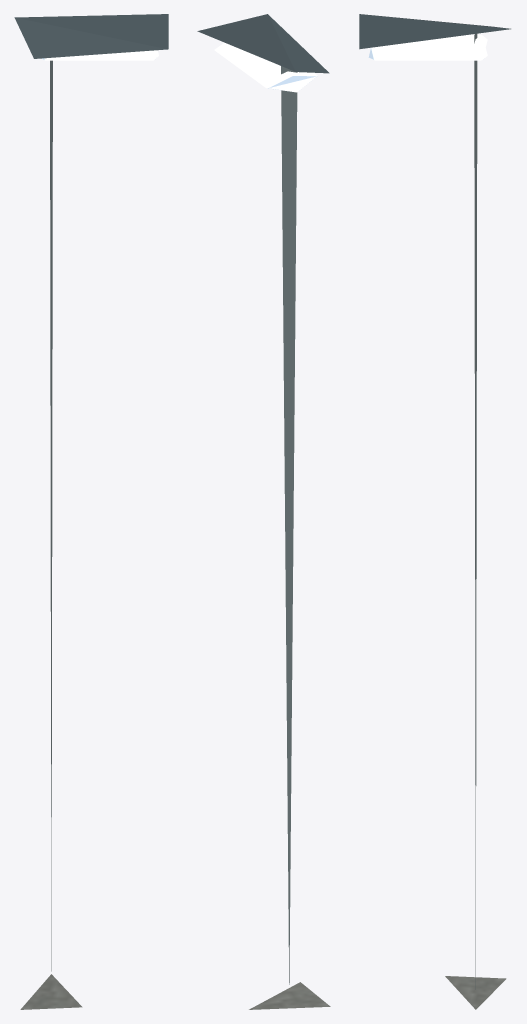
Rendered from ApronLight_8m_LOD2.glb.
The picture shows the model from 3 angles, left to right: view 1: azimuth 90°, elevation 25°; view 2: azimuth 210°, elevation 25°; view 3: azimuth 270°, elevation 25°; orthographic projection. The views are drawn at different scales.
Visible parts, largest first — view 1: ApronLight_8m_export; view 2: ApronLight_8m_export; view 3: ApronLight_8m_export.
Part boxes in pixels (box(x1,y1,x2,y2)): ApronLight_8m_export: box(14, 14, 168, 1009); ApronLight_8m_export: box(197, 14, 330, 1009); ApronLight_8m_export: box(359, 14, 510, 1009).
Size of the model in its own units: 0.6637 by 7.87 by 1.13.
4 materials, 1 textured.
